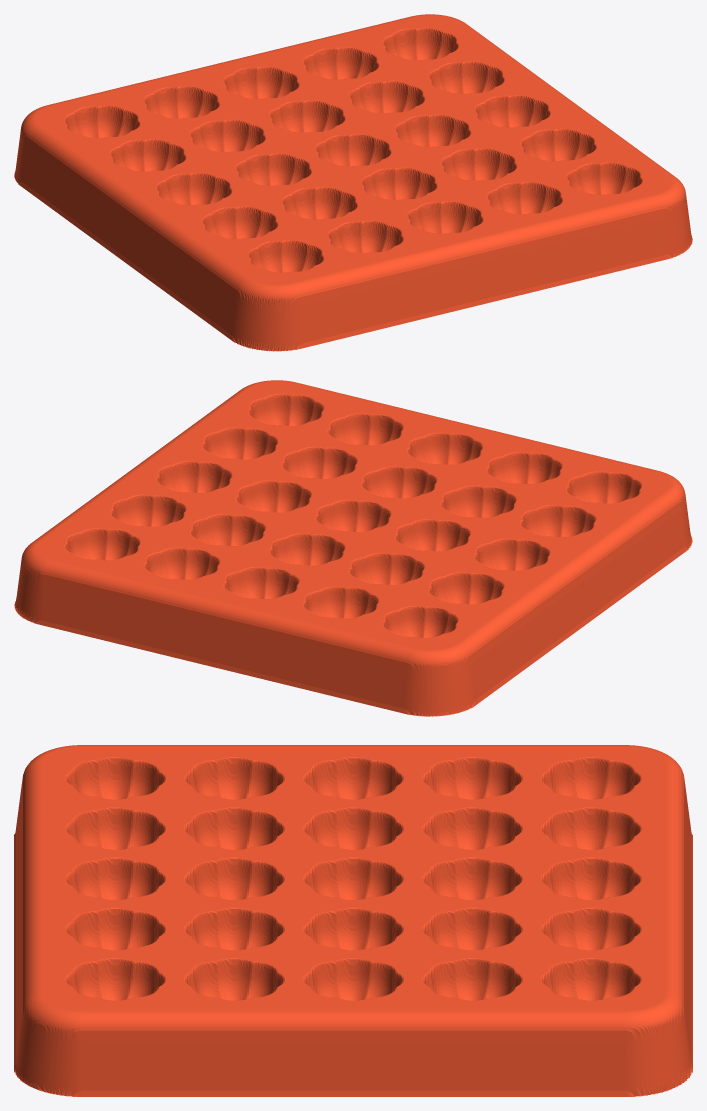
The model's file is mold.glb.
3 renders of one model, top to bottom at view 1: azimuth 30°, elevation 25°; view 2: azimuth 150°, elevation 25°; view 3: azimuth 270°, elevation 25°, orthographic. The views are drawn at different scales.
Visible parts, largest first — view 1: geometry_0; view 2: geometry_0; view 3: geometry_0.
Part boxes in pixels (box(x1,y1,x2,y2)): geometry_0: box(14, 14, 692, 351); geometry_0: box(14, 380, 692, 716); geometry_0: box(14, 745, 692, 1096).
Bounding box in the file's own units: 0.0902 × 0.0109 × 0.0902.
